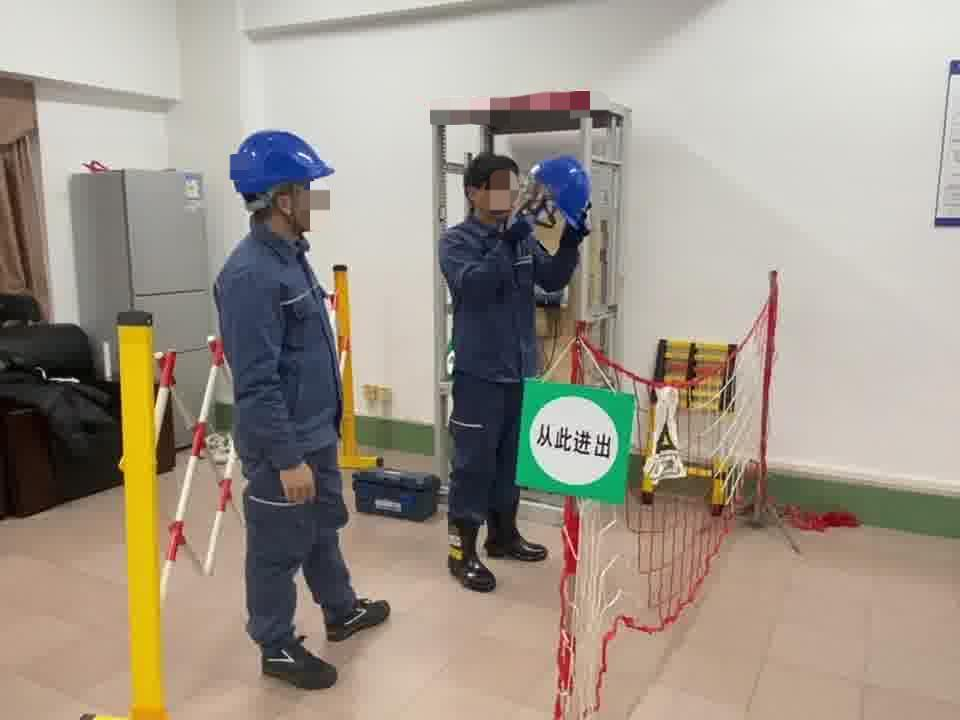halt: (234, 130, 339, 239), (532, 156, 596, 235)
inear: (264, 185, 305, 230)
unhalt: (463, 160, 526, 225)
